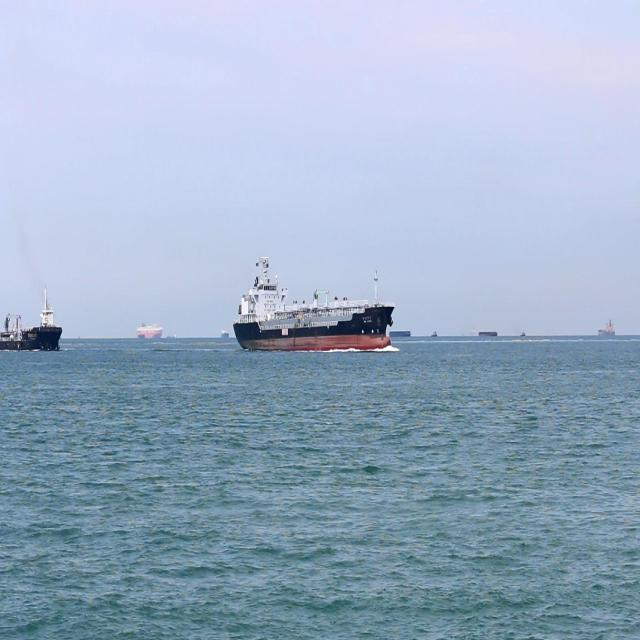ship: (232, 254, 398, 353), (0, 280, 64, 352), (134, 322, 162, 342), (598, 316, 618, 341), (40, 300, 59, 326)
